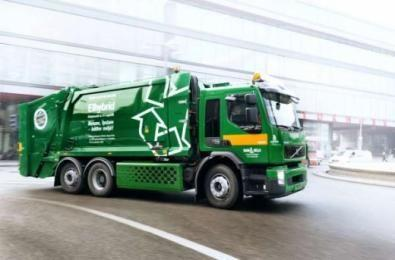truck: (15, 66, 310, 210)
